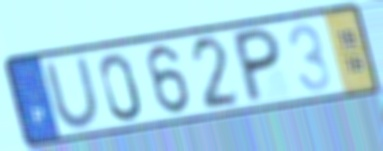0: (95, 49, 146, 123)
2: (190, 34, 243, 111)
3: (287, 22, 332, 93)
6: (144, 41, 193, 116)
P: (232, 25, 282, 107)
U: (41, 54, 105, 131)
